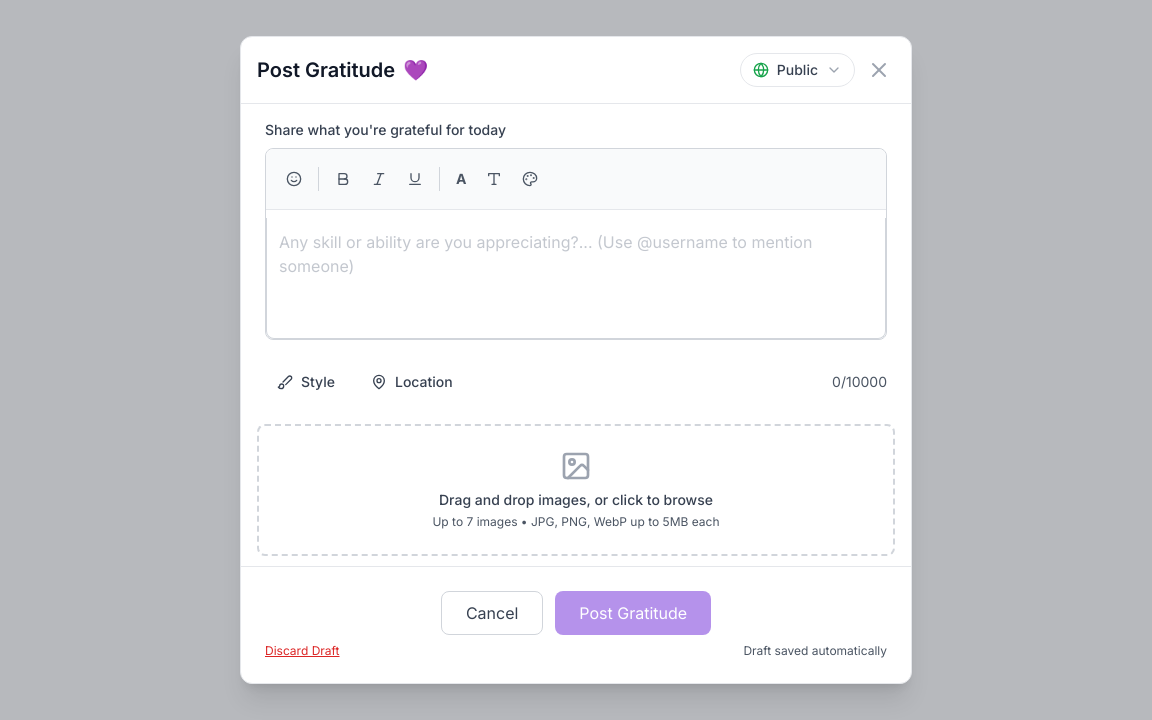
it: CreatePostModal Character Counter › should show 0/10000 when all text is deleted
This screenshot has width=1152, height=720.
Expected: the button "Post Gratitude" is shown, [555,591,711,635]
Note: Type some text
Clear the field at (576, 278), box [267,218,885,338]
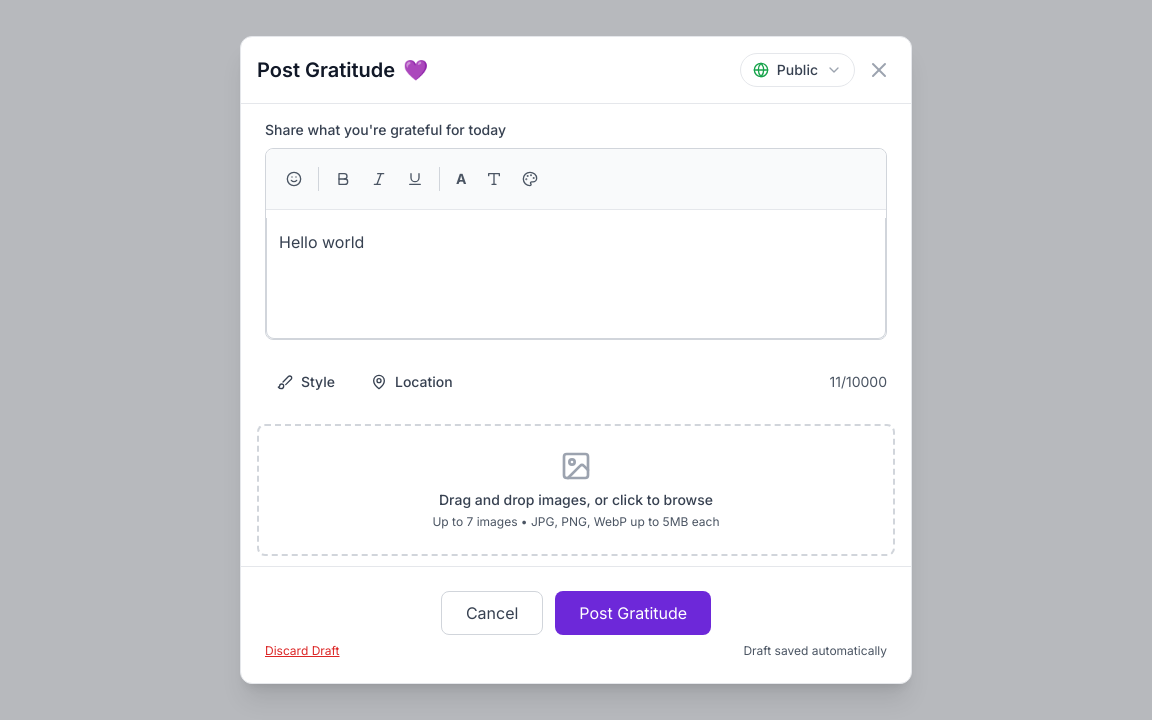
Expected: the text "11/10000" is shown, [830,372,887,392]
Note: Clear all text by selecting all and deleting
Press a in the field, box [279,232,364,252]
Press Delete in the field, box [279,232,364,252]
Clear the field at (322, 242), box [279,232,364,252]
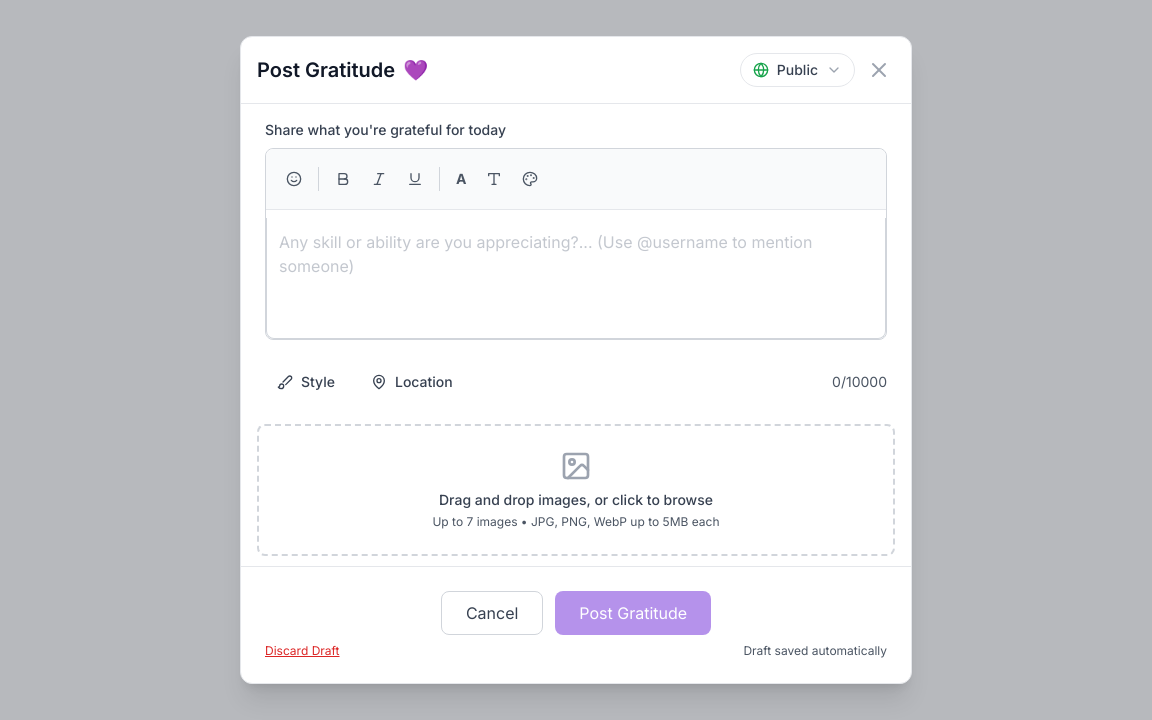
Expected: the text "0/10000" is shown, [832,372,887,392]
